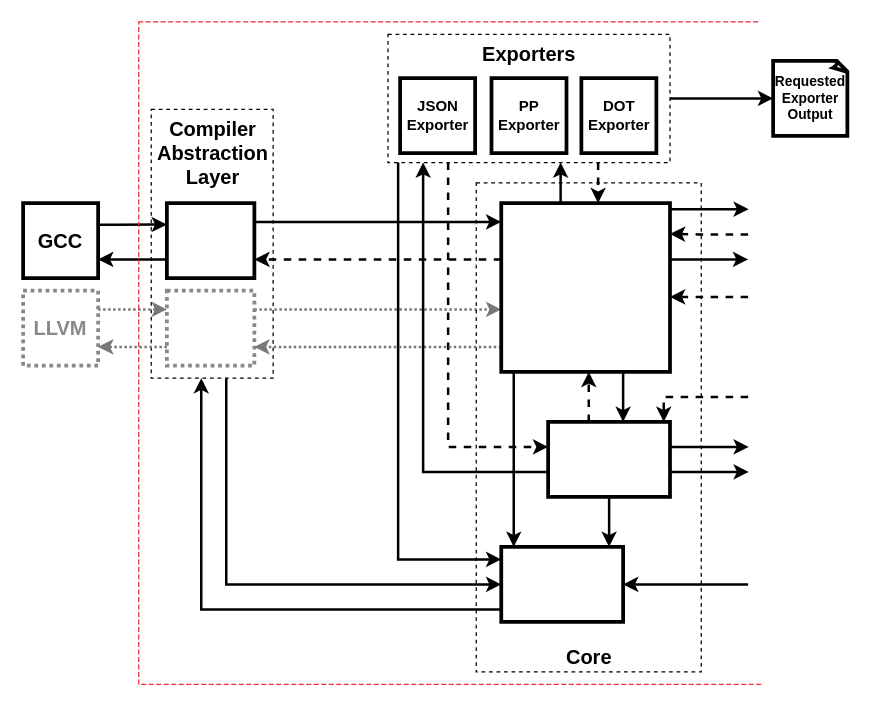
The diagram is 871 pixels wide and 706 high, and some of its shapes have lost their labels. Here are the shapes that lost their labels. From the top down, the centre of each, then its label:
(x=210, y=240): GCC Adapter
(x=585, y=287): Code Model
(x=210, y=327): LLVM Adapter
(x=608, y=458): Analysis Manager
(x=561, y=583): Diagnostic Reporter
